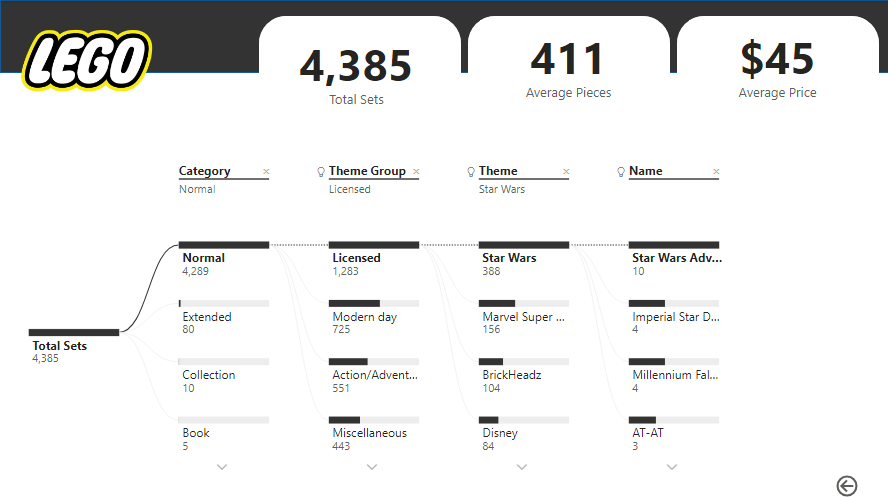

Layout of this report page (visuals, bound fields, positions):
{"tool":"powerbi","page":{"name":"Exploring Sets","canvas":[1280,720],"ordinal":1},"visuals":[{"type":"shape","box":[0,0,1280.2,105.1],"z":0},{"type":"image","box":[11.5,28.8,227.5,121],"z":1000},{"type":"shape","box":[373,23,290.9,155.5],"z":5000},{"type":"shape","box":[673.9,23,290.9,155.5],"z":6000},{"type":"shape","box":[974.9,23,290.9,155.5],"z":7000},{"type":"card","fields":{"Values":["_Measures.Total Sets"]},"box":[385.9,38.9,254.9,125.3],"z":8000},{"type":"card","fields":{"Values":["_Measures.Average Pieces"]},"box":[691.2,28.8,254.9,125.3],"z":9000},{"type":"card","fields":{"Values":["_Measures.Average Price"]},"box":[992.2,28.8,254.9,125.3],"z":10000},{"type":"decompositionTreeVisual","fields":{"Analyze":["_Measures.Total Sets"],"ExplainBy":["lego_sets.category","lego_sets.themeGroup","lego_sets.theme","lego_sets.name"]},"box":[11.5,221.8,1254.2,498.2],"z":11000},{"type":"actionButton","box":[1199.5,679.7,66.2,40.3],"z":11001}]}

Visuals, with their boxes in screenshot pixels (x1, y1, x2, y2), scaled from the page's 1280x720 canvas onto the 888x498 screenshot:
shape: 0 0 887 73
image: 8 20 166 104
shape: 259 16 461 123
shape: 468 16 669 123
shape: 676 16 878 123
card - _Measures.Total Sets: 268 27 445 114
card - _Measures.Average Pieces: 480 20 656 107
card - _Measures.Average Price: 688 20 865 107
decompositionTreeVisual - _Measures.Total Sets x lego_sets.category: 8 153 878 497
actionButton: 832 470 878 497
